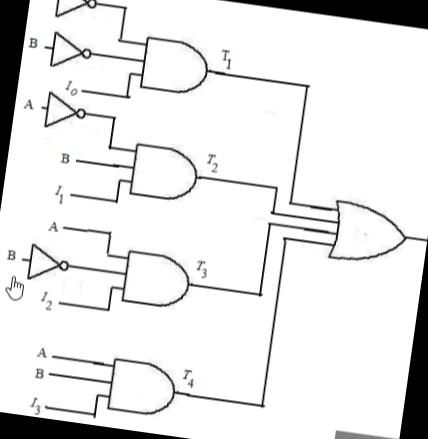and: (132, 24, 218, 106), (96, 342, 178, 426), (114, 239, 196, 319), (120, 134, 204, 206)
not: (20, 238, 76, 290), (39, 87, 94, 138), (44, 26, 98, 72), (50, 0, 101, 23)
or: (315, 188, 418, 284)
